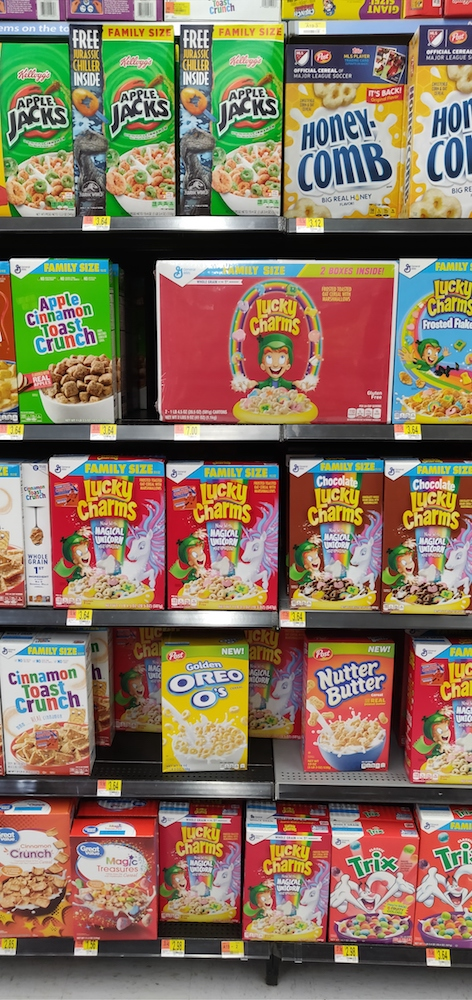Nutter Butter-565717511: (309, 640, 387, 775)
Oreo Golden-568301011: (162, 639, 251, 774)
